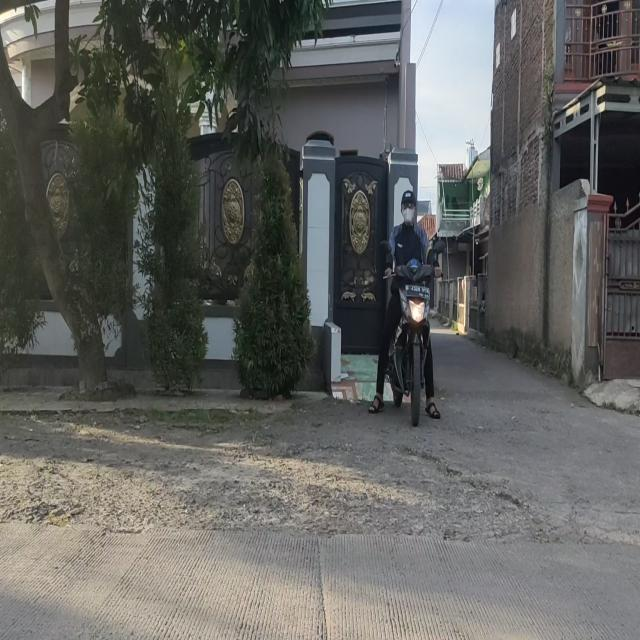no-helmet: (400, 187, 420, 226)
